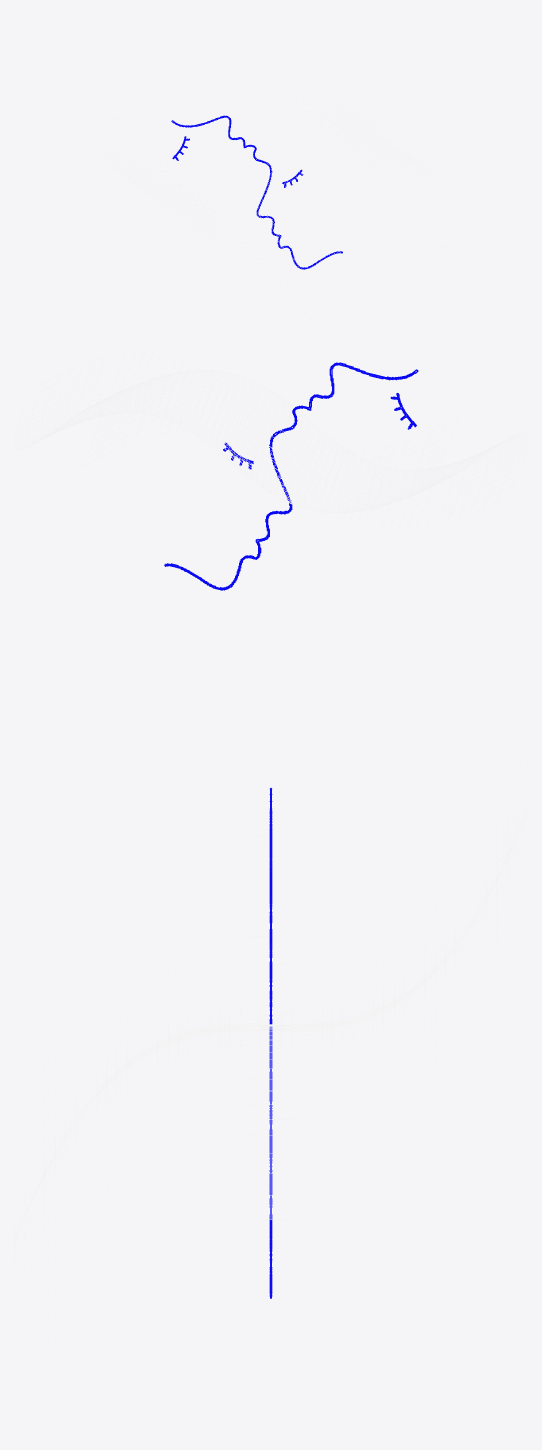
3 renders of one model, top to bottom at view 1: azimuth 30°, elevation 25°; view 2: azimuth 150°, elevation 25°; view 3: azimuth 270°, elevation 25°, orthographic. The views are drawn at different scales.
Bounding box in the file's own units: 2.23 × 1.24 × 1.3.
